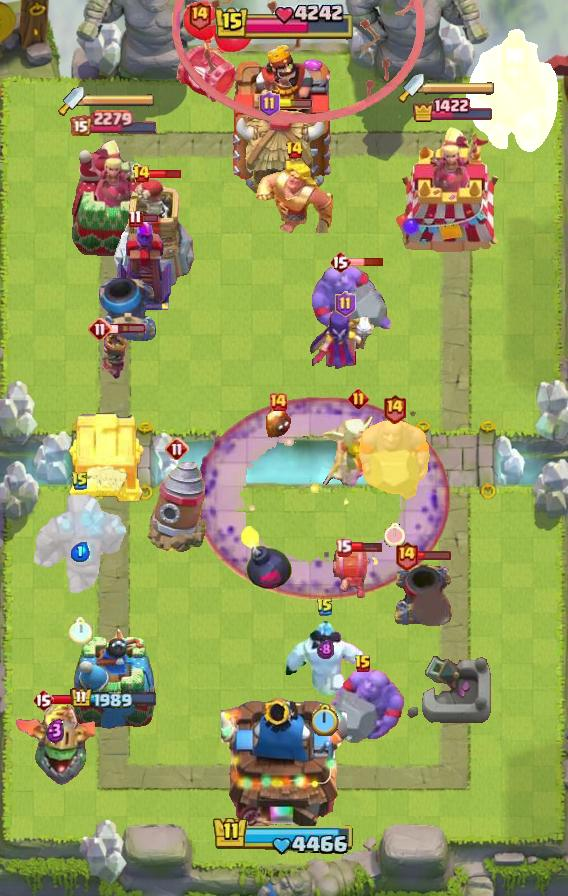archer-queen: (312, 262, 394, 346), (320, 666, 406, 746), (355, 419, 433, 501)
axe: (307, 310, 383, 372)
baby-dragon: (239, 523, 293, 591)
bar: (394, 126, 512, 256), (70, 138, 158, 256)
bomb: (66, 410, 146, 504)
bomber: (264, 405, 292, 439)
bomber-evolution: (98, 331, 130, 381)
cannoneer-tower: (31, 495, 129, 597)
clock: (212, 815, 356, 857), (213, 3, 355, 43)
electro-spirit: (47, 717, 66, 742), (70, 542, 90, 562), (318, 639, 335, 660)
elixir: (313, 704, 340, 736), (67, 617, 92, 645), (383, 523, 405, 547)
emote: (109, 323, 146, 335), (52, 694, 88, 706), (149, 168, 184, 180), (349, 541, 383, 553), (416, 551, 452, 562), (277, 99, 313, 109), (348, 257, 383, 267), (141, 213, 160, 223)
giant-skeleton: (465, 27, 561, 155)
goblin-hut: (255, 161, 333, 233)
ice-spirit-evolution-symbol: (114, 216, 176, 312)
king-tower: (221, 690, 347, 826), (230, 43, 338, 181)
king-tower-bar: (424, 81, 496, 95), (84, 93, 156, 107)
knight: (330, 544, 380, 600)
magic-archer: (147, 459, 207, 553)
musketeer: (392, 561, 454, 629), (98, 277, 158, 341)
night-witch: (14, 705, 96, 785)
poison: (315, 407, 401, 493)
prince: (235, 108, 329, 198)
queen-tower: (72, 627, 156, 731)
rage: (285, 621, 365, 695)
rocket: (195, 396, 451, 600)
royal-recruit-evolution: (172, 0, 254, 106)
selected: (69, 109, 158, 136), (413, 97, 496, 123), (70, 687, 158, 711)
skeleton-barrel: (172, 0, 428, 124)
text: (188, 0, 213, 31), (394, 541, 419, 572), (382, 392, 406, 423), (88, 317, 112, 341), (165, 437, 189, 461), (335, 291, 357, 317), (259, 91, 280, 117), (329, 250, 351, 274), (32, 688, 54, 712), (348, 387, 369, 408), (132, 164, 152, 184), (268, 392, 288, 412), (285, 140, 304, 160), (71, 471, 89, 491), (316, 597, 334, 617), (354, 654, 372, 674), (335, 539, 353, 557), (129, 209, 144, 228)
zappy: (112, 177, 197, 293)
